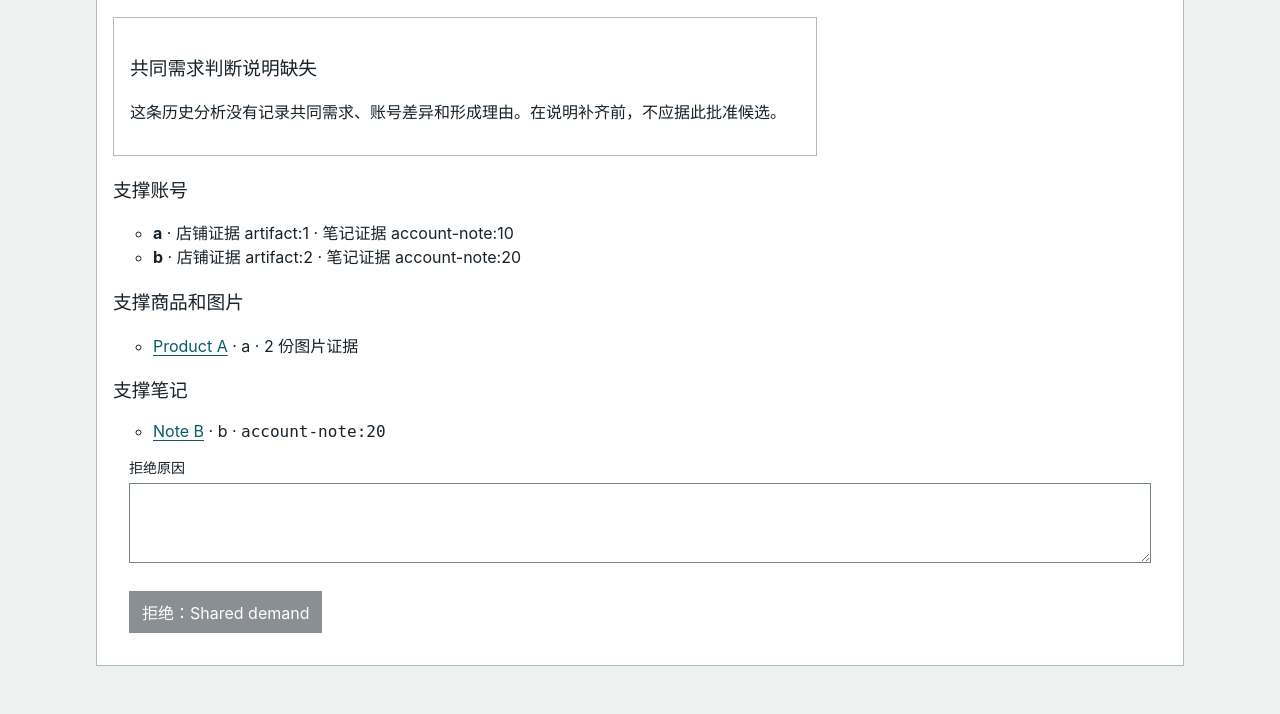
OpportunitiesPage › requires a rejection reason and blocks duplicate review requests
(page scrolled)
Expected: the button "拒绝：Shared demand" is disabled, [129,591,322,633]
In the text box named "拒绝 Shared demand 的原因": (640, 523) [129,483,1151,563], type "No common demand"
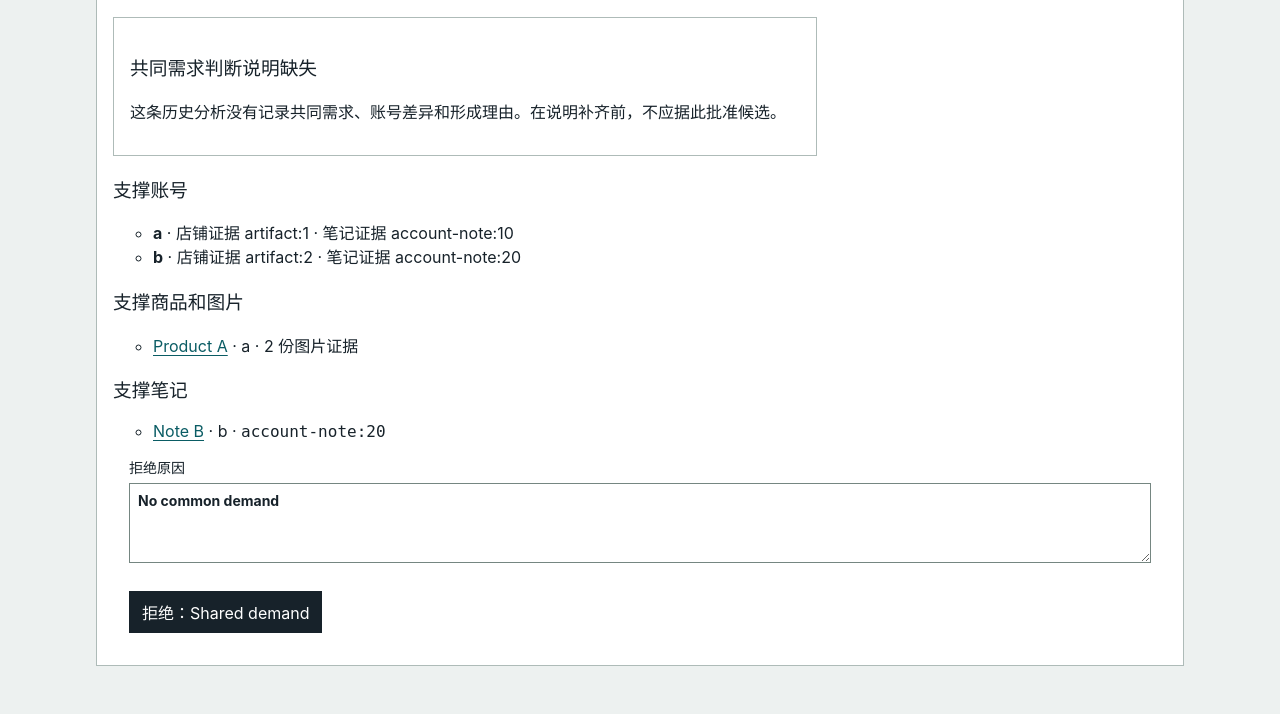
Click the button "拒绝：Shared demand": (226, 612) [129,591,322,633]
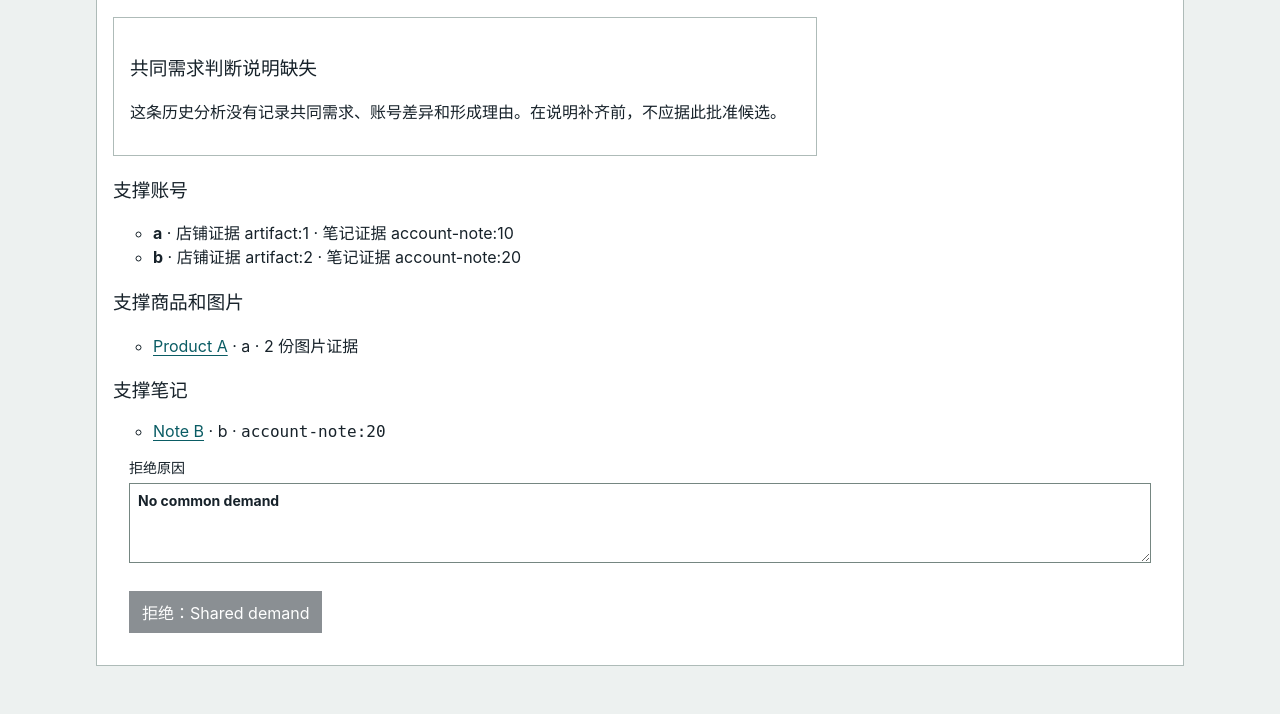
Click the button "拒绝：Shared demand": (226, 612) [129,591,322,633]
(page scrolled)
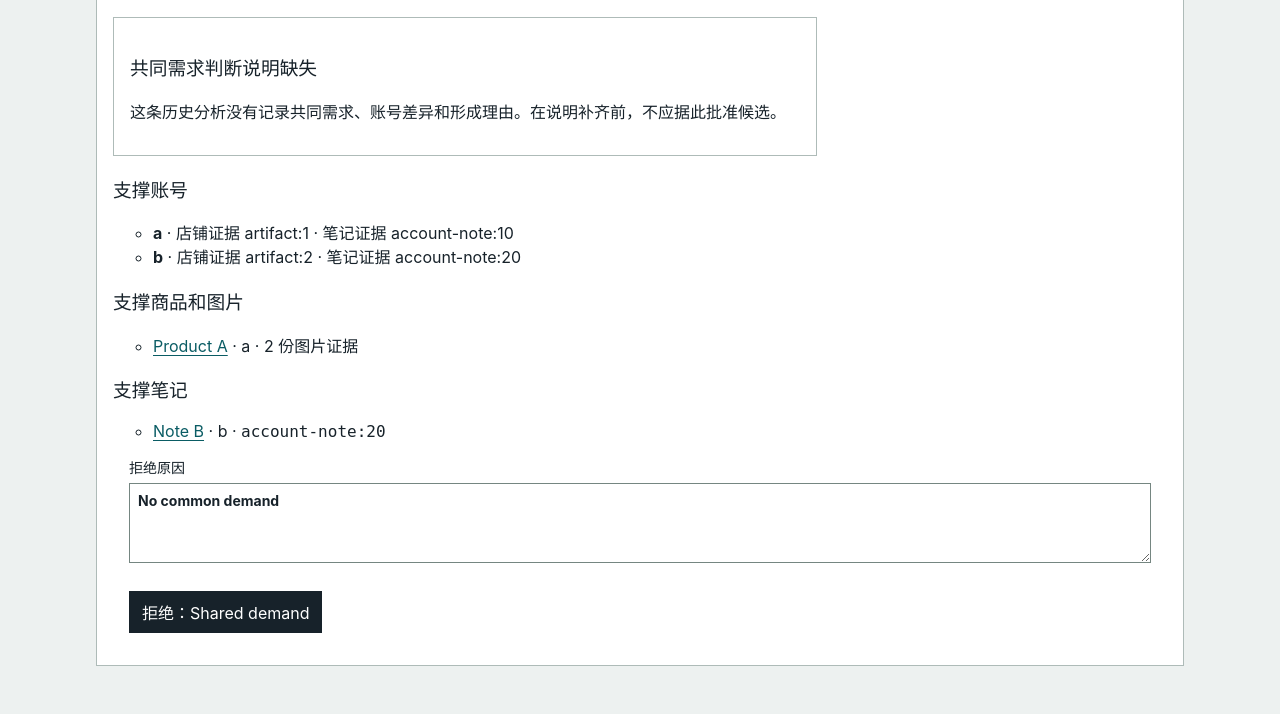
Expected: the button "拒绝：Shared demand" is enabled, [129,591,322,633]
